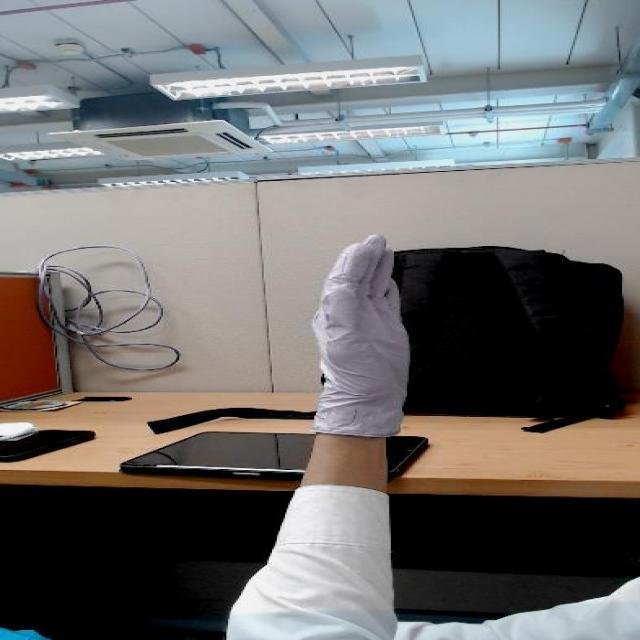with_gloves: (268, 224, 472, 408)
